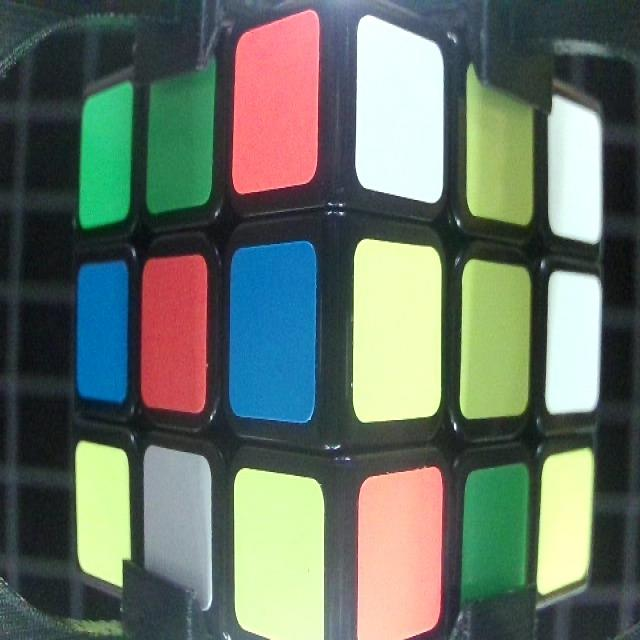b: (233, 251, 314, 422), (78, 263, 124, 398)
g: (466, 470, 524, 622), (148, 68, 212, 204), (82, 95, 128, 226)
o: (360, 480, 440, 640), (236, 32, 313, 189), (144, 258, 207, 412)
w: (358, 19, 444, 195), (145, 446, 211, 601), (551, 103, 601, 235), (548, 276, 595, 414)
y: (355, 243, 442, 414), (234, 476, 323, 640), (462, 264, 526, 414), (467, 72, 531, 216), (75, 442, 132, 588), (542, 461, 592, 589)
